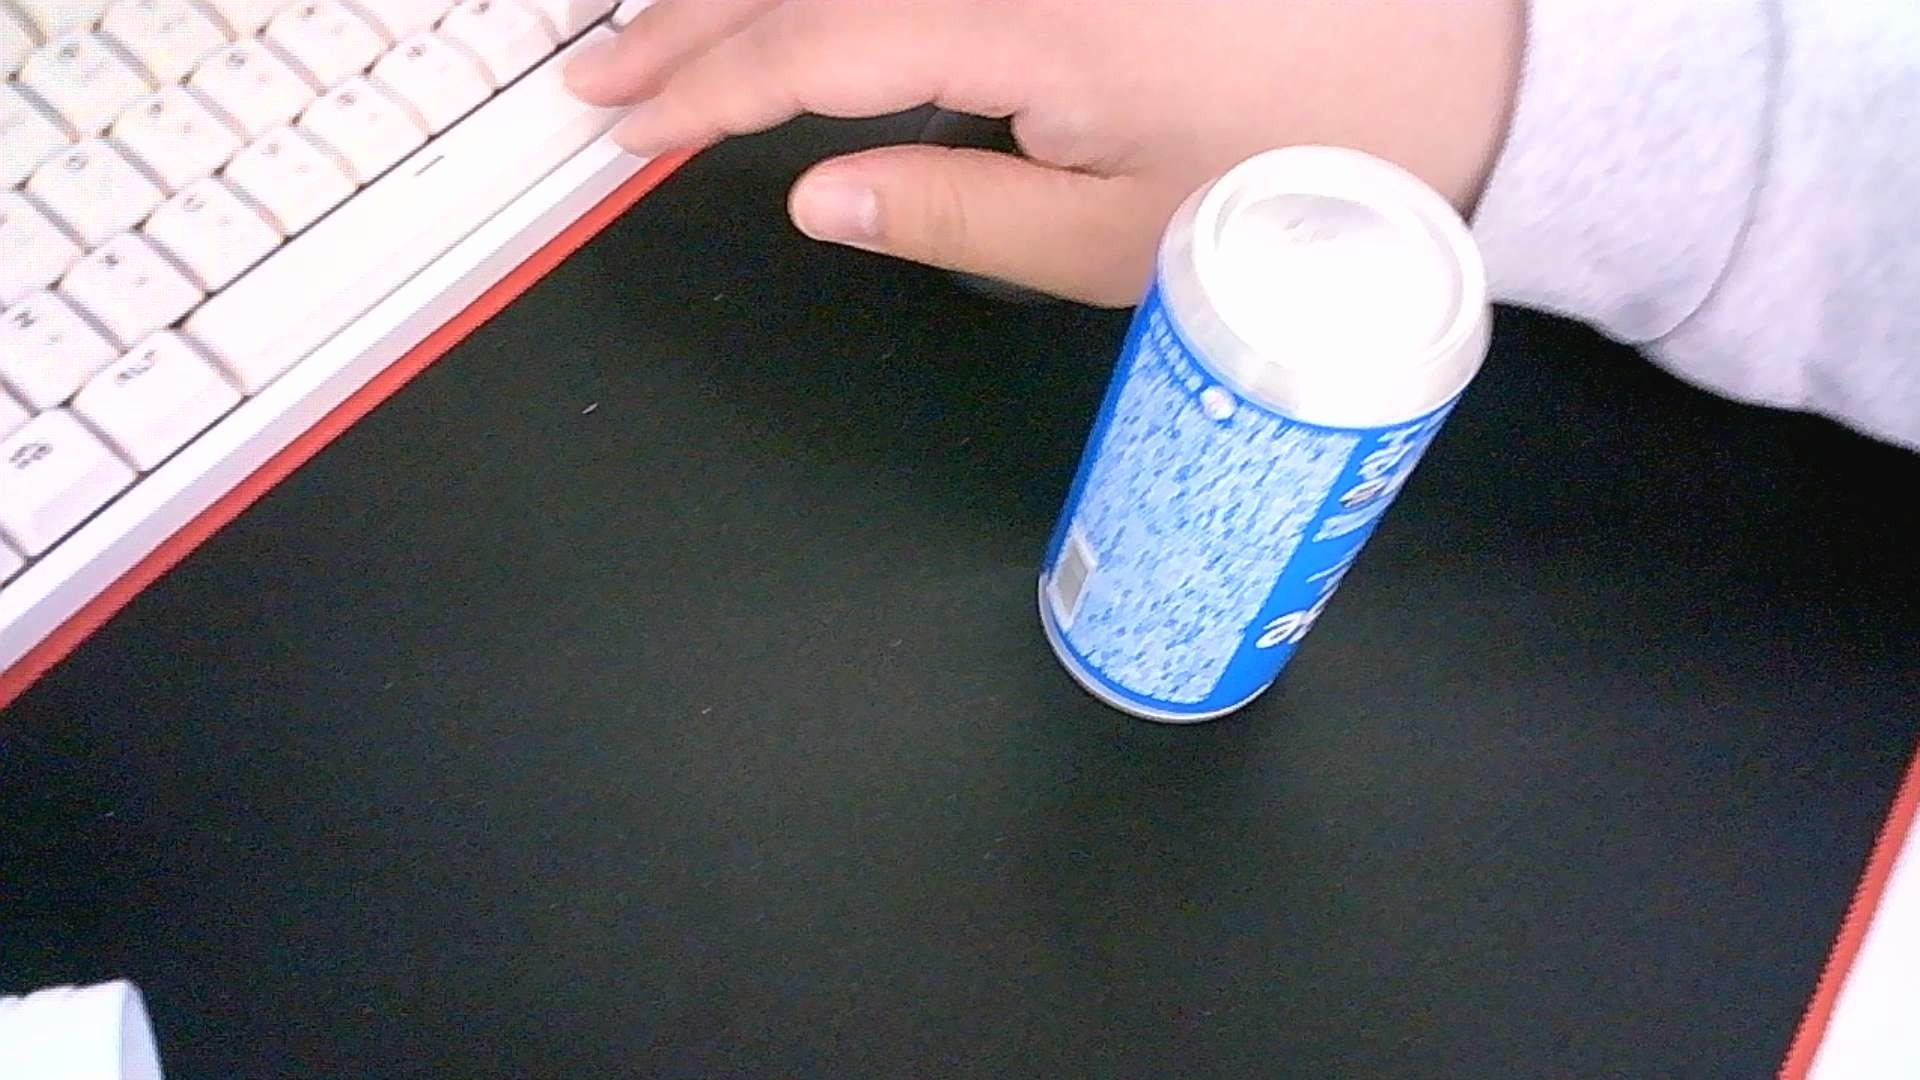letsbe: (1038, 144, 1493, 727)
